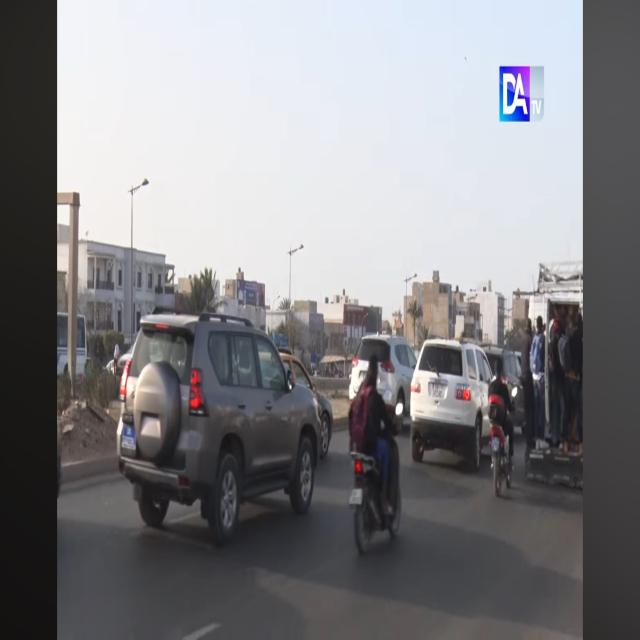bus tata: (57, 310, 89, 385)
moto: (348, 413, 404, 558), (489, 388, 515, 498)
ndiaga ndiaye: (526, 268, 585, 491)
particulier: (116, 303, 323, 537), (410, 333, 501, 471), (350, 331, 424, 437), (481, 342, 532, 435)
taxi: (277, 346, 335, 461)
